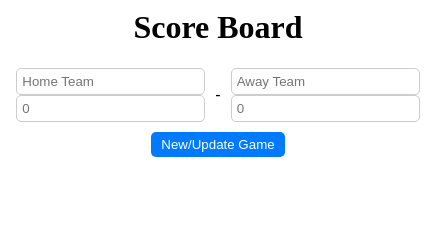
it: ScoreBoard › Checks if new game is rendered correctly
Type "New Home Team" into the field with id "home-team__name-input" at (111, 81), box [16, 68, 205, 95]
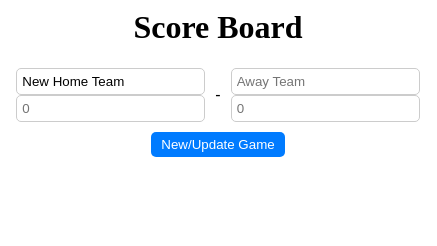
Type "15" into the field with id "home-team__score-input" at (111, 108), box [16, 95, 205, 122]
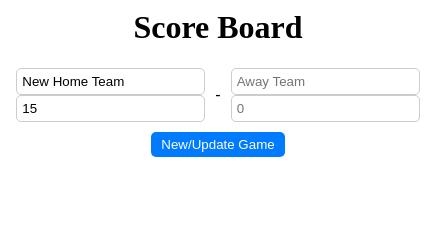
Type "10" into the field with id "away-team__score-input" at (325, 108), box [231, 95, 420, 122]
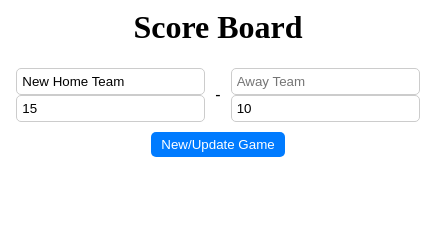
Type "New Away Team" into the field with id "away-team__name-input" at (325, 81), box [231, 68, 420, 95]
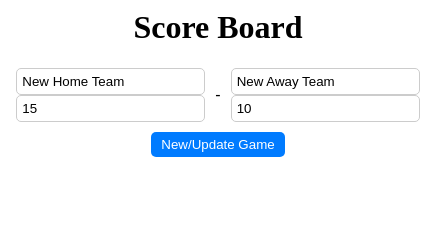
Click the "New Game" button
Click the button "New/Update Game" at (218, 144), box [151, 132, 285, 157]
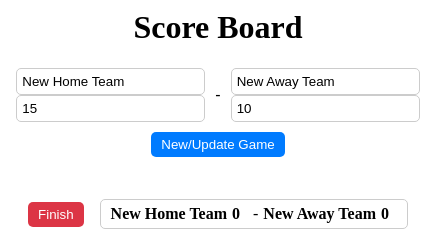
Now the text with id "home-team__name" reads "New Home Team", box [111, 205, 227, 222]
Now the text with id "home-team__score" reads "0", box [232, 205, 240, 222]
Now the text with id "away-team__score" reads "0", box [381, 205, 389, 222]
